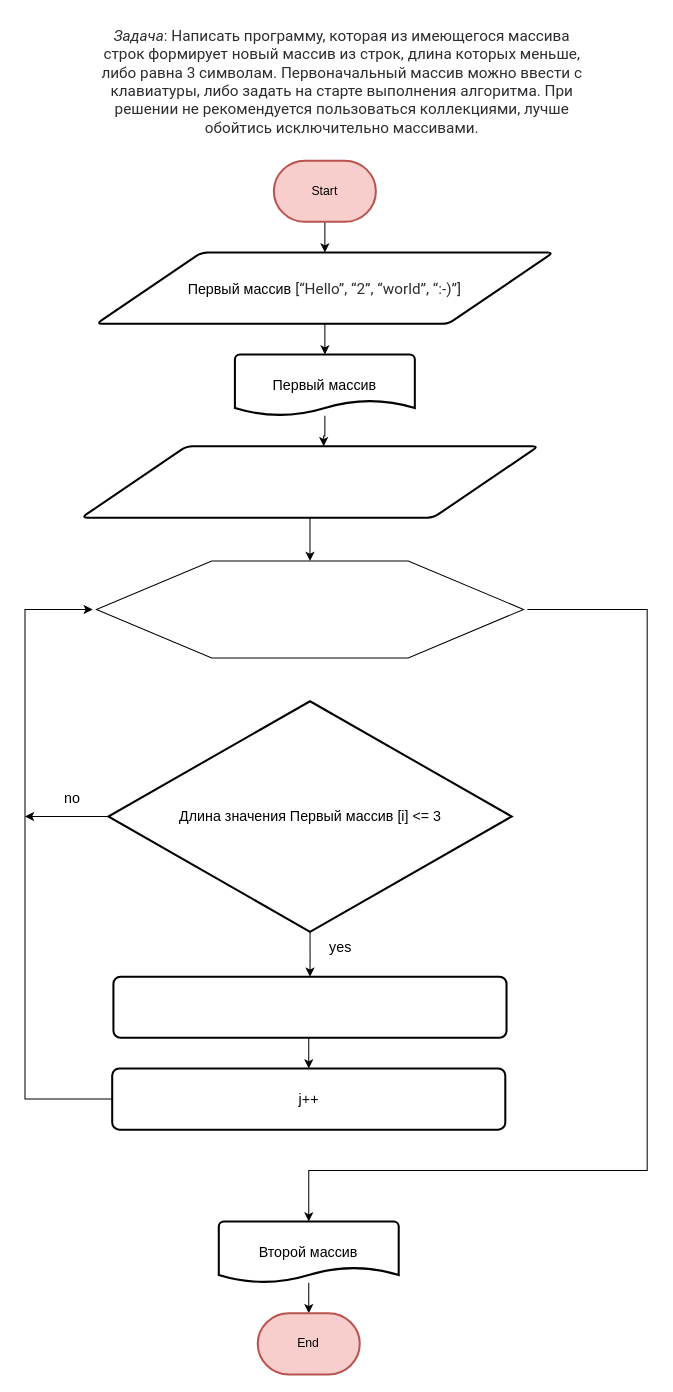
Image size: 673x1392. Some labels were removed from this diagram. Each missing label, with the centre of its shape:
"i=0, i< длина Первого массива , i++" goes at pixel 309 609.
"Второй массив [ длина Первого массива] j = 0" goes at pixel 309 481.
"Второй массив [j]=Первый массив [i]" goes at pixel 309 1006.
